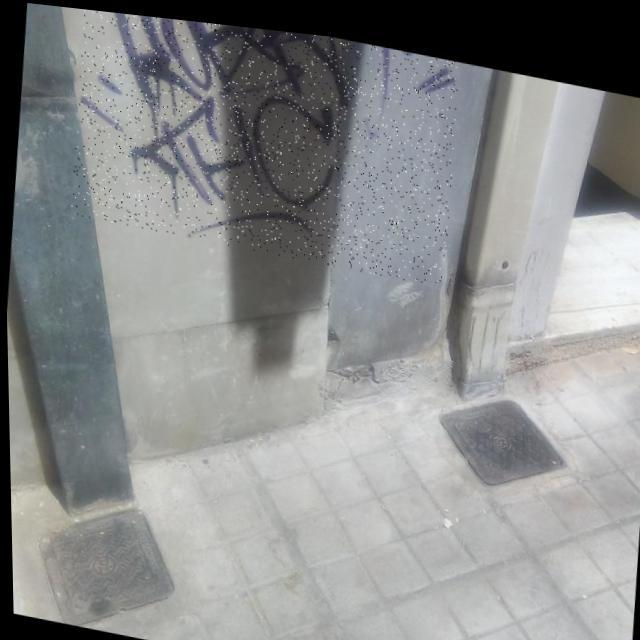-: (65, 6, 462, 279)
